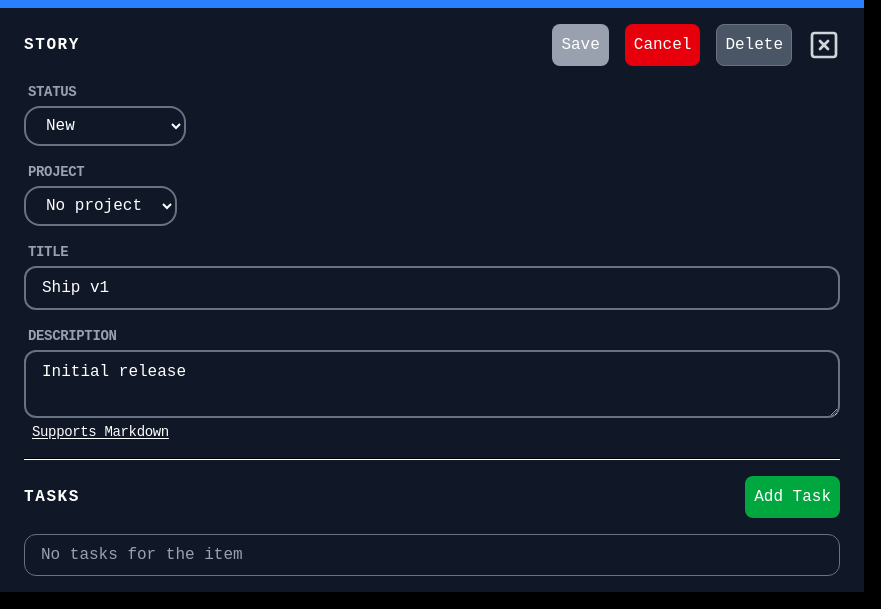
Test case: WorkItemCardExpanded — save › toggles between the description textarea and its markdown preview
This screenshot has width=881, height=609.
What coordinates should you click on to do the following:
click the button "Supports Markdown"
I would click on:
 (100, 432)
Its box is [24,422,177,442].
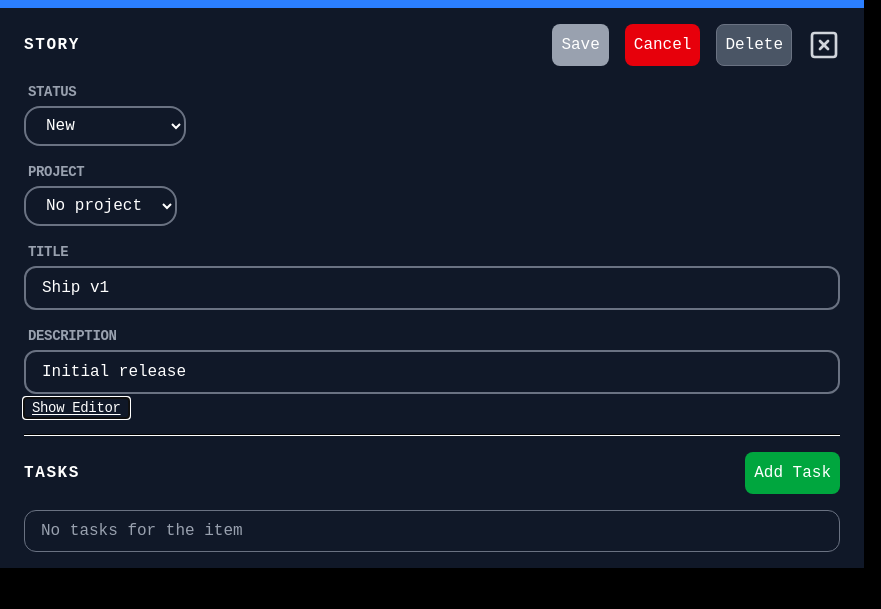
Expected: the text "Initial release" is shown, [42,363,186,381]
What coordinates should you click on to do the following:
click the button "Show Editor"
I would click on:
 (76, 408)
Its box is [24,398,129,418].
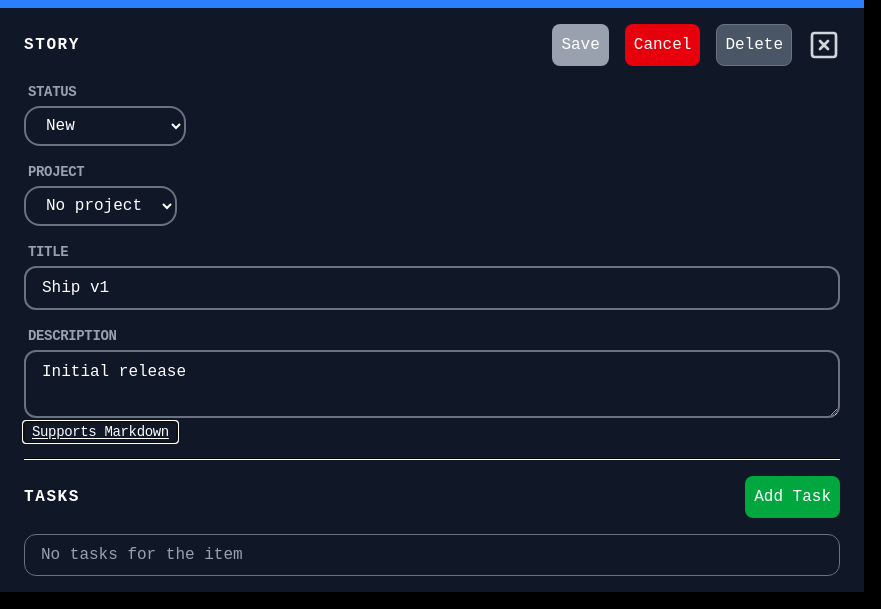
Expected: the text box showing "Initial release" is shown, [24,350,840,418]
